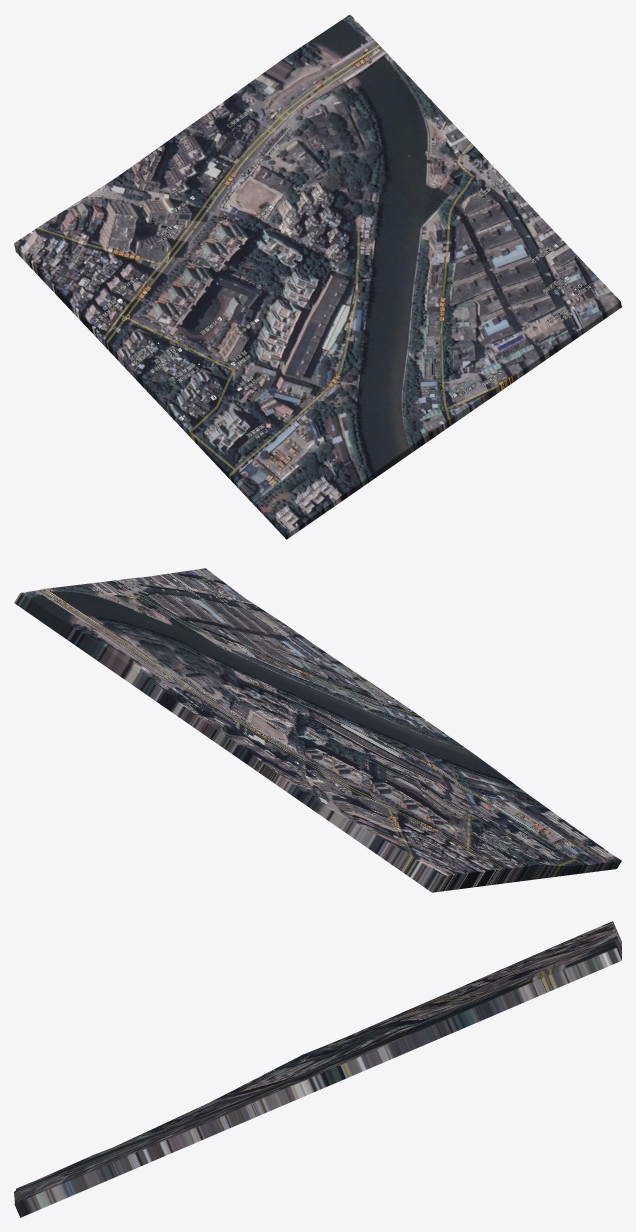
The picture shows the model from 3 angles, top to bottom: view 1: azimuth 30°, elevation 25°; view 2: azimuth 150°, elevation 25°; view 3: azimuth 270°, elevation 25°; orthographic projection. The views are drawn at different scales.
Parts seen in each view (by area): view 1: 0_3_4; view 2: 0_3_4; view 3: 0_3_4.
Part boxes in pixels (box(x1,y1,x2,y2)): 0_3_4: box(14, 14, 621, 539); 0_3_4: box(14, 568, 621, 892); 0_3_4: box(14, 921, 621, 1217).
Size of the model in its own units: 600 by 438 by 548.
1 material, 1 textured.
